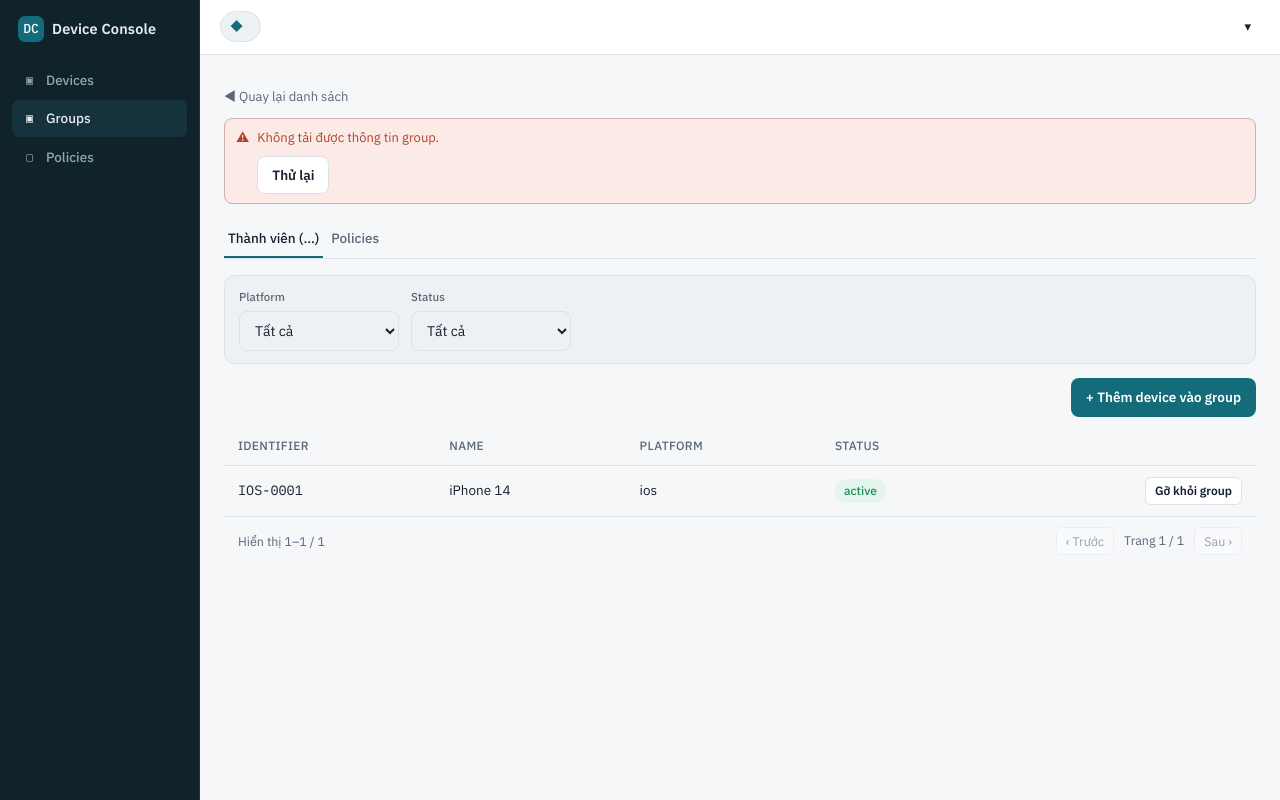
Scenario: GroupDetailView › header › keeps the members tab alive when only the header fails (A28)
This screenshot has width=1280, height=800.
Expected: the message with test id "error-banner" shows "Không tải được thông tin group.", top-left (257, 129), bottom-right (439, 146)
Expected: the table with test id "group-members-table" is shown, top-left (224, 426), bottom-right (1256, 516)
Click the button with test id "retry-button" at {"x": 293, "y": 175}, box top-left (257, 156), bottom-right (329, 194)
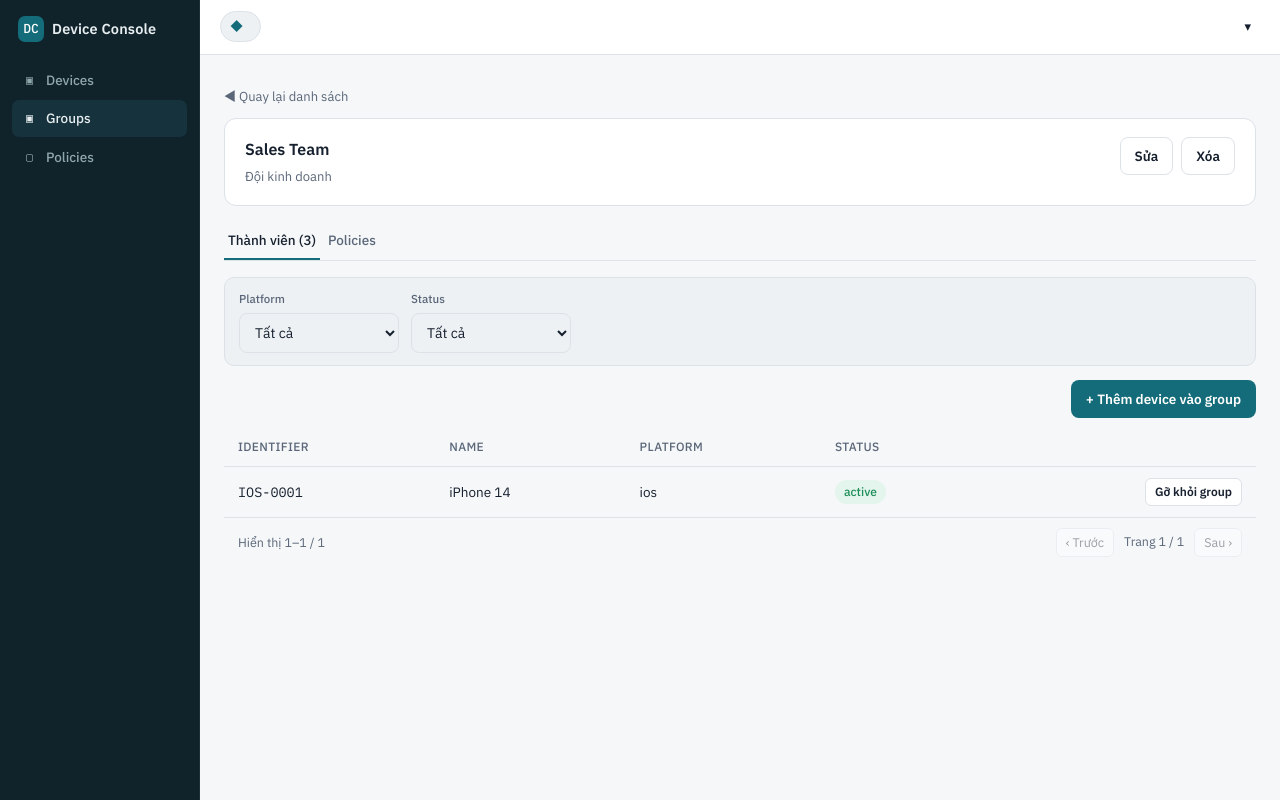
Expected: the text with test id "group-detail-name" reads "Sales Team", top-left (245, 139), bottom-right (329, 159)
